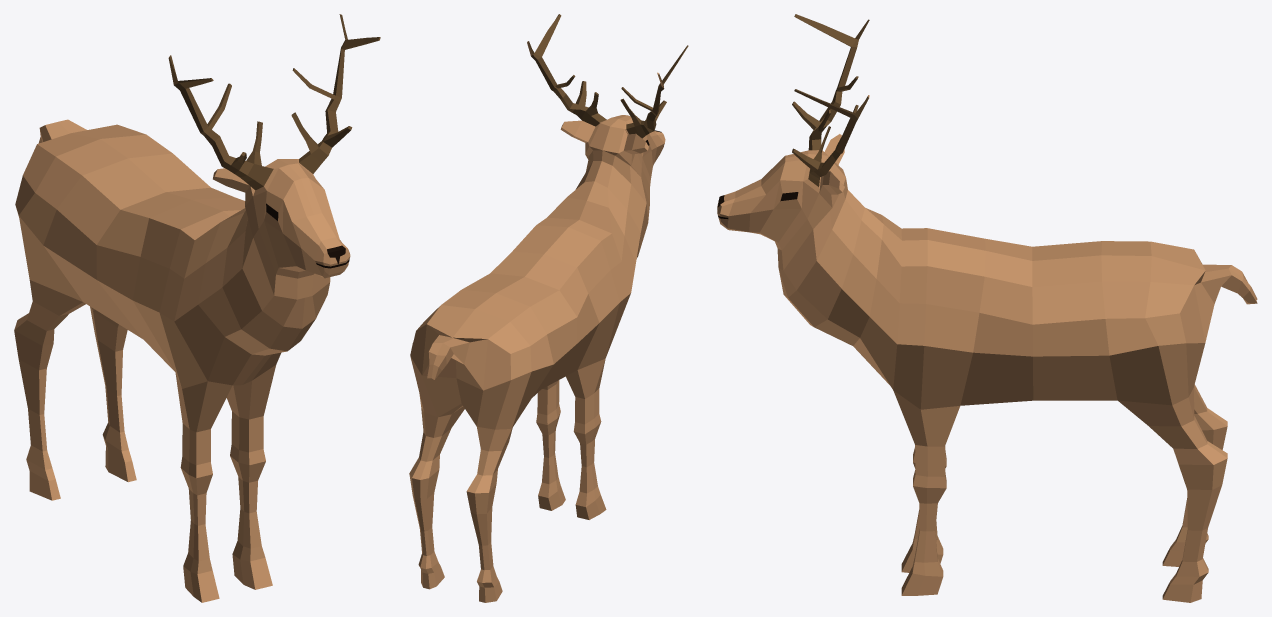
Rendered from ciervo 1.fbx.
3 renders of one model, left to right at view 1: azimuth 30°, elevation 25°; view 2: azimuth 150°, elevation 25°; view 3: azimuth 270°, elevation 25°, orthographic. The views are drawn at different scales.
Parts seen in each view (by area): view 1: Ciervo_model; view 2: Ciervo_model; view 3: Ciervo_model.
Part boxes in pixels (x1,y1,x2,y2): Ciervo_model: (14,14,380,602); Ciervo_model: (409,14,688,602); Ciervo_model: (717,14,1257,602).
Bounding box in the file's own units: 0.7772 × 2.46 × 2.28.
